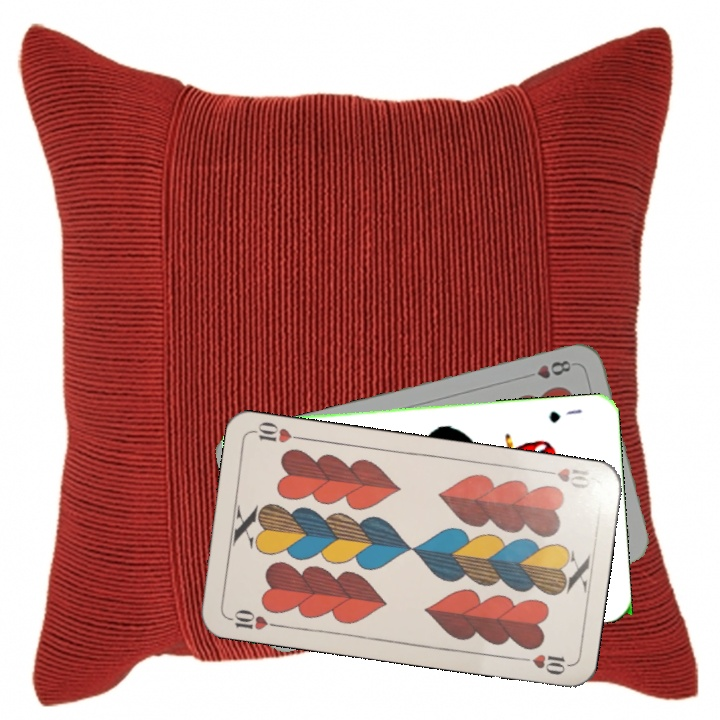GU: (545, 405, 584, 425)
H10: (224, 605, 283, 633), (538, 464, 593, 492)
H8: (520, 356, 574, 382)
